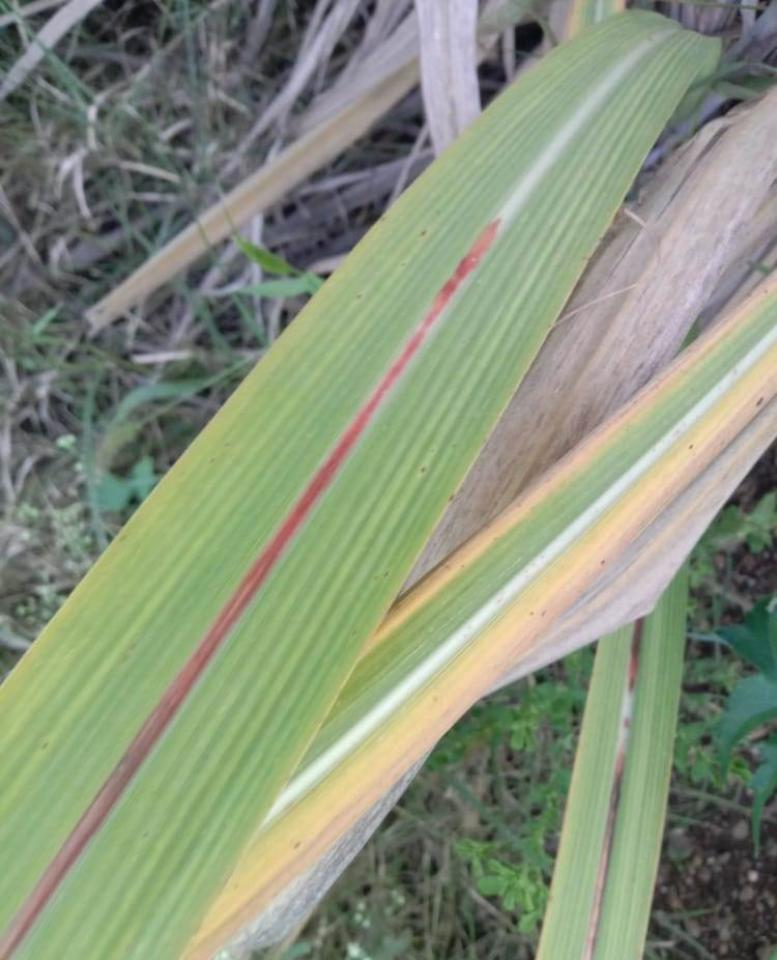RedRot: (0, 215, 503, 959)
Yellow: (184, 341, 777, 959), (368, 267, 777, 653)
